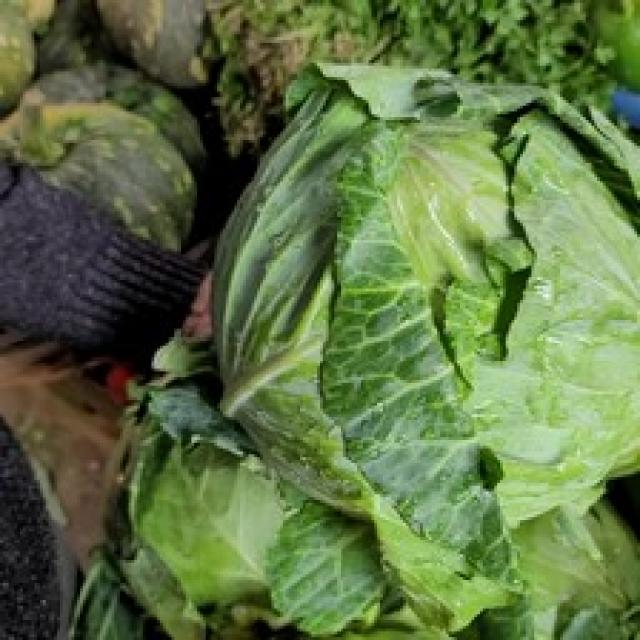organik: (231, 58, 635, 542)
